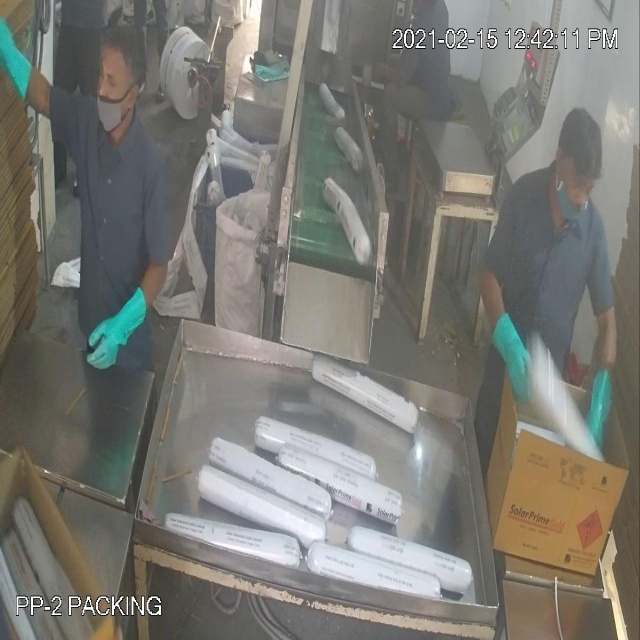Guantes: (78, 284, 155, 381), (486, 288, 531, 408), (1, 9, 37, 114)
Sin_guantes: (362, 56, 420, 103)
